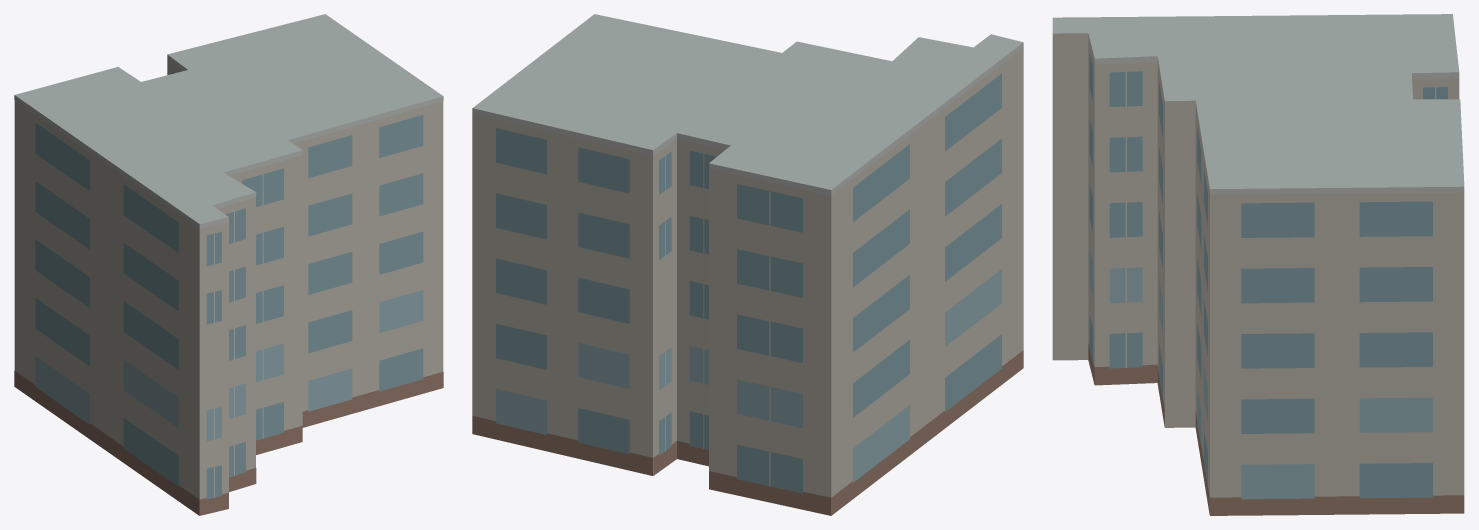
The model's file is survey-upis-32758751.glb.
3 views of the same model, side by side, from view 1: azimuth 30°, elevation 25°; view 2: azimuth 150°, elevation 25°; view 3: azimuth 270°, elevation 25° (orthographic). The views are drawn at different scales.
Parts seen in each view (by area): view 1: survey-upis-32758751.tmp; view 2: survey-upis-32758751.tmp; view 3: survey-upis-32758751.tmp.
Boxes of the visible parts, x1,y1,x2,y2 form: survey-upis-32758751.tmp: (14,14,443,515); survey-upis-32758751.tmp: (472,14,1023,515); survey-upis-32758751.tmp: (1052,14,1464,515).
Size of the model in its own units: 16.16 by 14.05 by 16.06.
